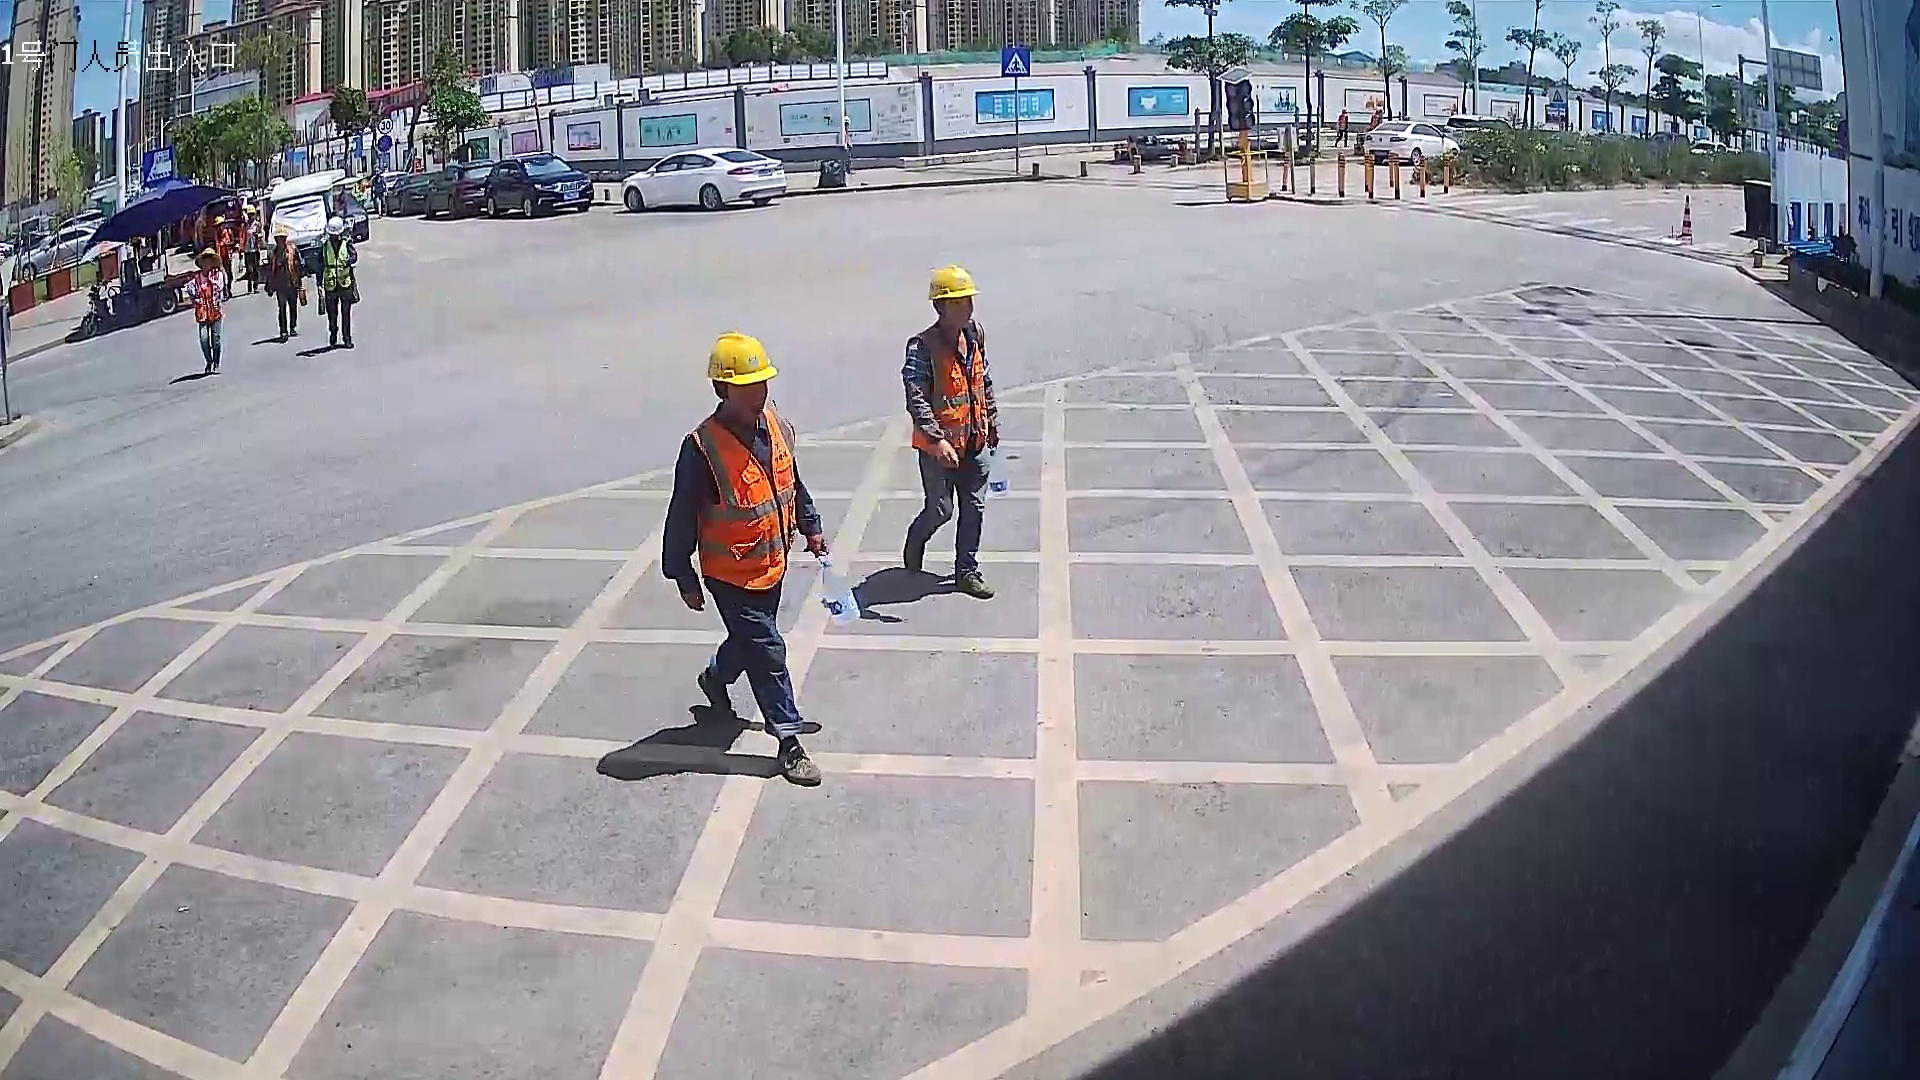person: (659, 329, 832, 788), (899, 264, 1005, 601), (315, 216, 363, 350), (187, 247, 228, 376), (263, 225, 305, 346)
reflective_vest: (687, 408, 803, 598), (905, 325, 990, 462), (192, 270, 225, 324), (321, 237, 352, 292)
safety_helmet: (704, 329, 780, 420), (927, 263, 980, 330), (325, 215, 345, 243), (272, 224, 290, 248)
